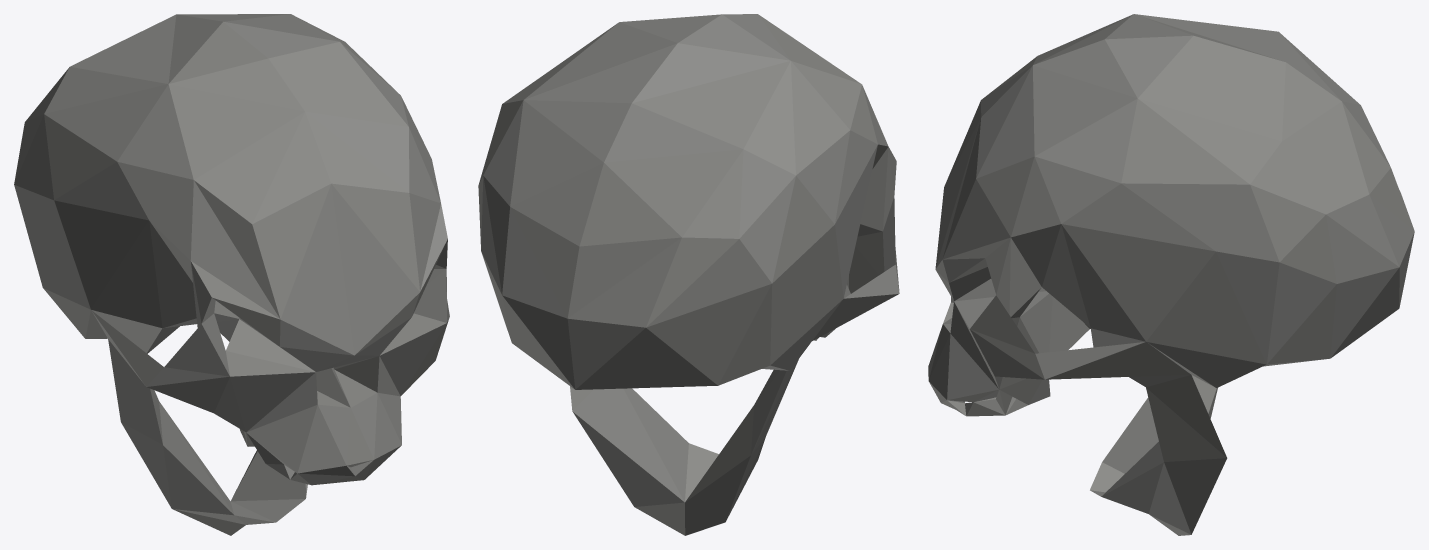
File: YN_Skull3.fbx
3 views of the same model, side by side, from view 1: azimuth 30°, elevation 25°; view 2: azimuth 150°, elevation 25°; view 3: azimuth 270°, elevation 25° (orthographic). The views are drawn at different scales.
Parts seen in each view (by area): view 1: YN_Skull3; view 2: YN_Skull3; view 3: YN_Skull3.
Boxes of the visible parts, x1,y1,x2,y2 form: YN_Skull3: (14, 14, 449, 535); YN_Skull3: (478, 14, 899, 535); YN_Skull3: (928, 14, 1414, 535).
Bounding box in the file's own units: 5.01 × 7.36 × 6.49.
